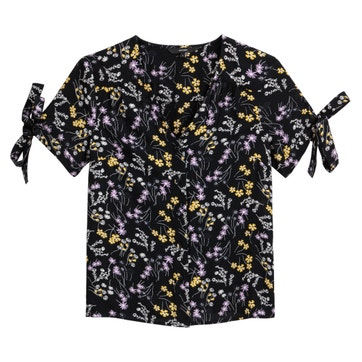C_short blouse: (12, 37, 354, 327)
